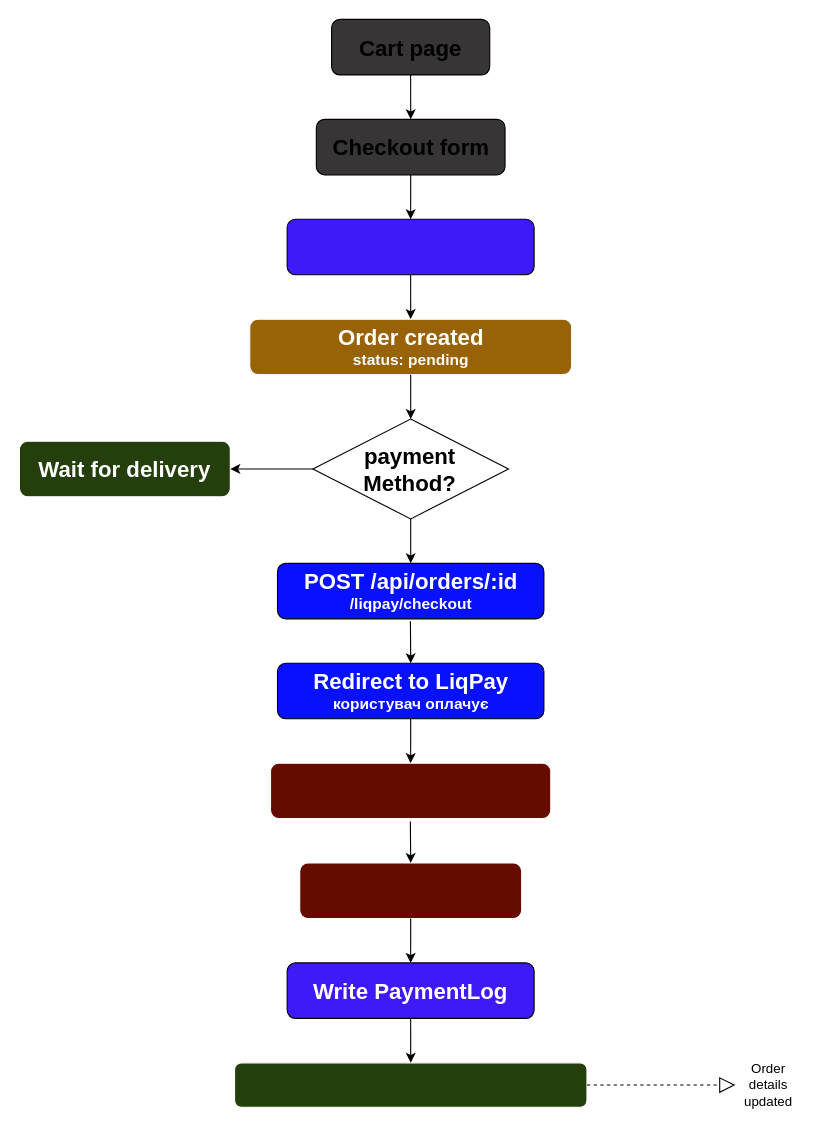
Image size: 821x1128. Some labels were removed from this diagram. Each missing label, with the box of its shape:
LiqPay callback POST /api/orders/liqpay/callback: (269, 762, 551, 819)
POST /api/orders: (286, 218, 534, 275)
Update order: isPaid / status: (233, 1062, 587, 1107)
Verify signature: (299, 862, 522, 919)
